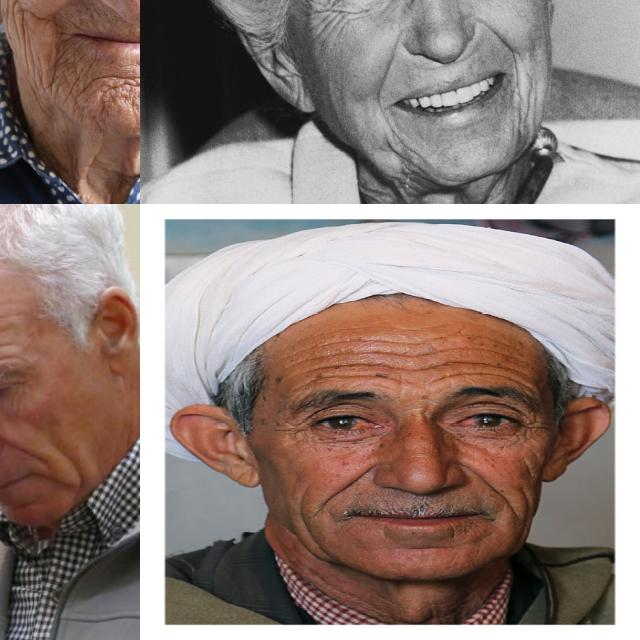chin: (84, 68, 140, 105), (508, 83, 538, 149), (384, 134, 428, 172), (402, 539, 452, 556)
crows_feet: (274, 412, 314, 444), (308, 1, 349, 32), (515, 411, 544, 441)
forehead: (389, 328, 440, 362), (387, 352, 451, 379), (458, 355, 519, 380), (318, 334, 374, 361), (456, 335, 510, 359), (315, 358, 368, 381), (0, 303, 18, 322)
gummy_smile: (322, 466, 374, 502), (471, 15, 519, 53), (369, 47, 401, 97), (471, 472, 515, 506), (0, 433, 44, 461)
masseter: (5, 0, 35, 53), (294, 509, 327, 552), (61, 447, 94, 481)
sad_smile: (50, 19, 70, 73), (506, 58, 526, 94), (377, 103, 397, 131)
